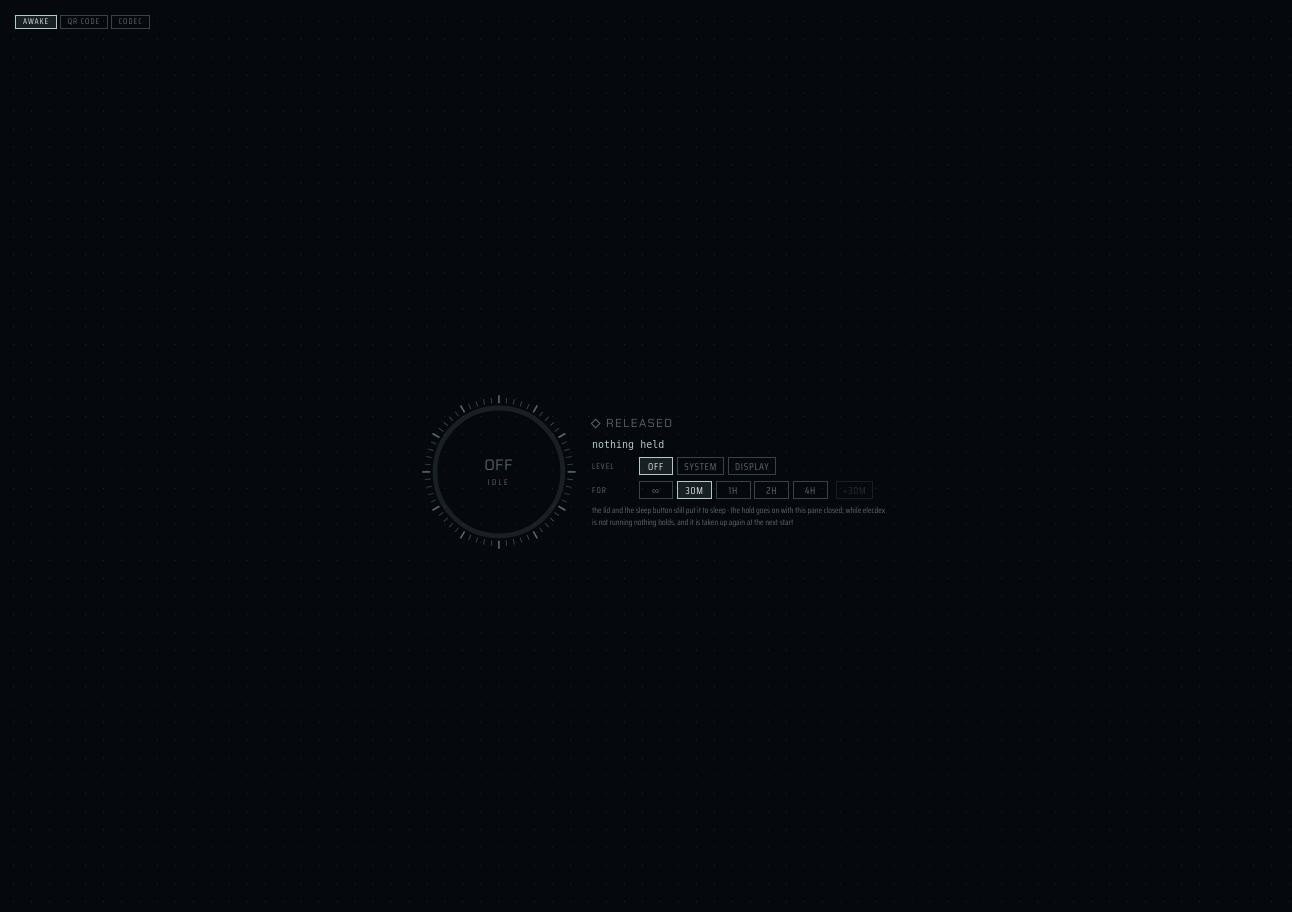
Test case: AWAKE › shows nothing held, and asks main for a level for the length the pane chose
Expected: the element with test id "awake-state" reads "RELEASED", [606,415,673,431]
Expected: the text with test id "awake-face" reads "OFF", [485,455,513,475]
Click the button "SYSTEM". click: point(701, 466)
box: [677,457,724,475]
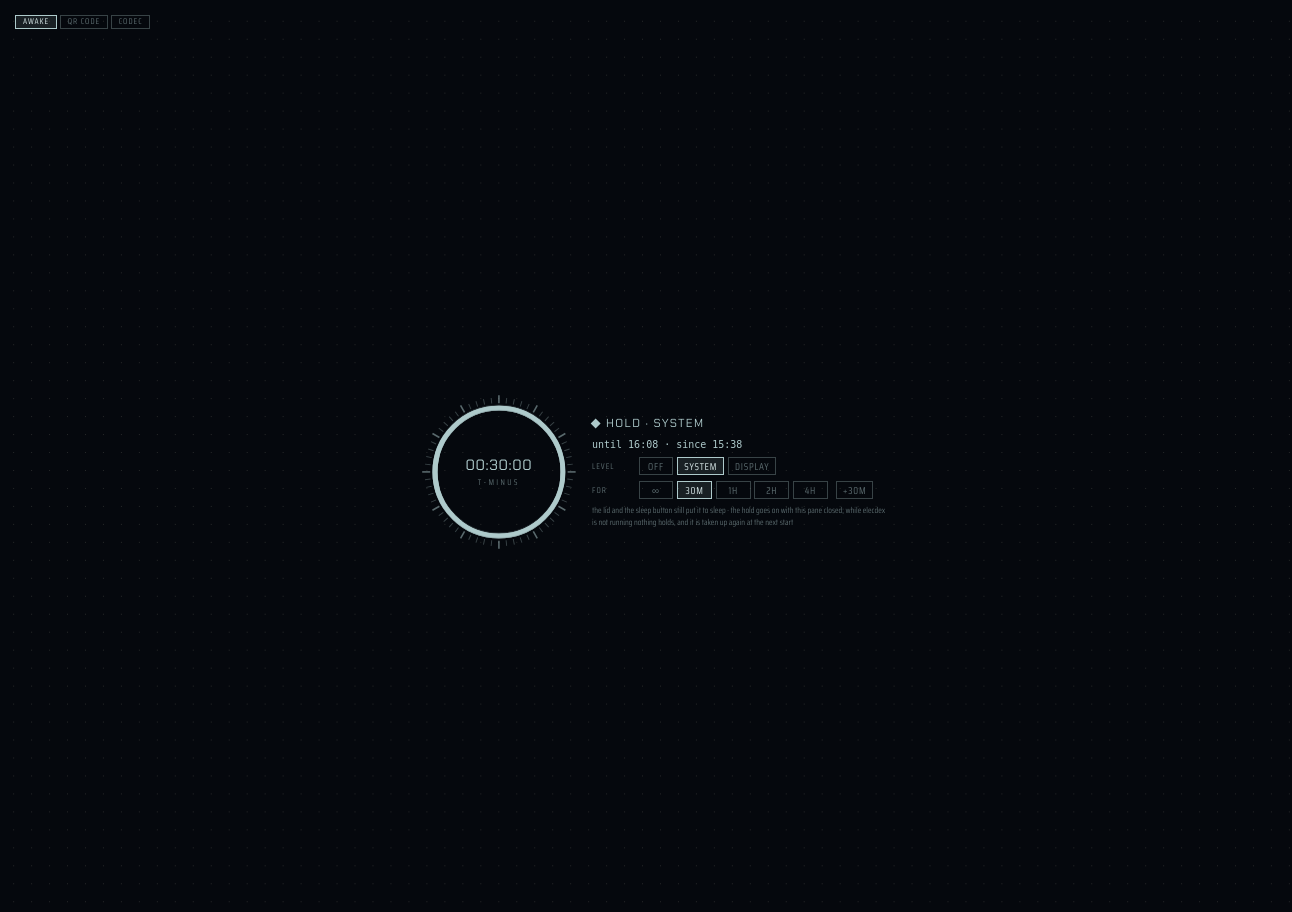
Expected: the element with test id "awake-state" reads "HOLD · SYSTEM", [606,415,704,431]
Expected: the text with test id "awake-face" reads "00:30:00", [466,455,532,475]
